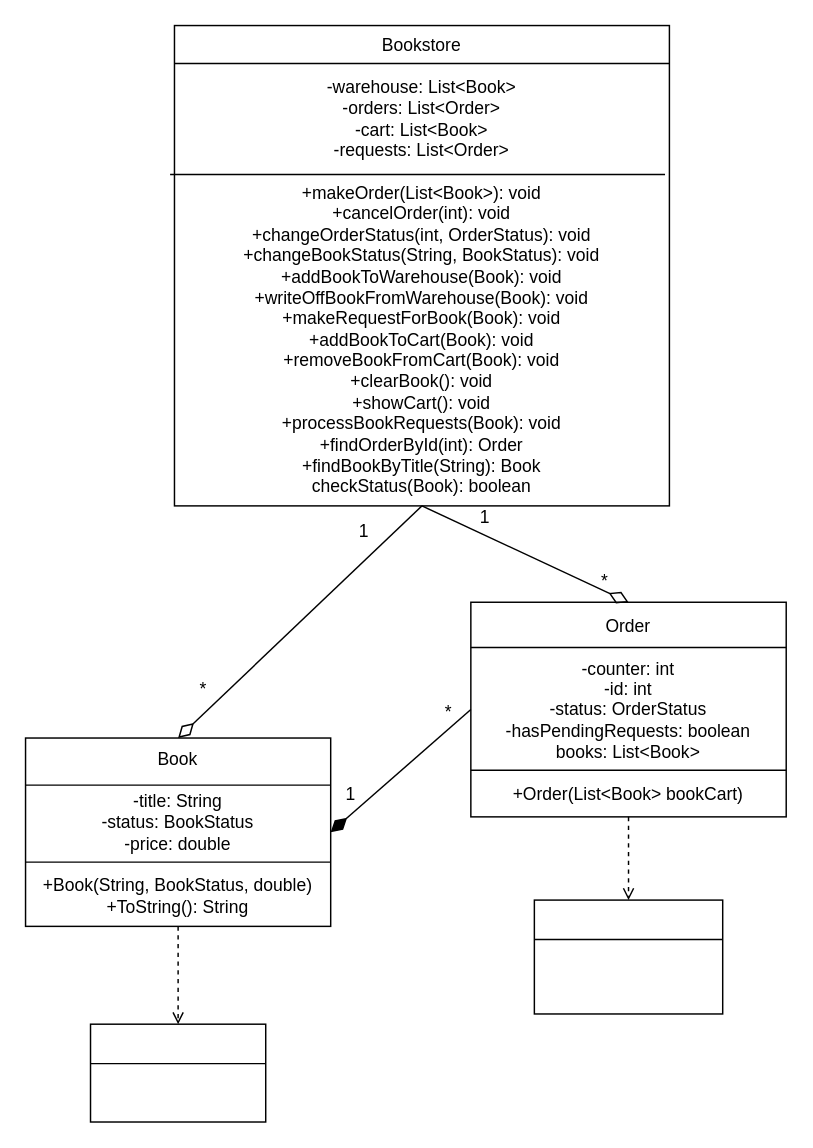
Image size: 813x1148. Some labels were removed from this diagram. The shapes that lost their labels are listed below. From the top down, each one's centre as x and y in pixels, then its label:
pixel 628 956: OrderStatus NEW COMPLETED CANCELED
pixel 177 1072: BookStatus AVAILABLE UNAVAILABLE
